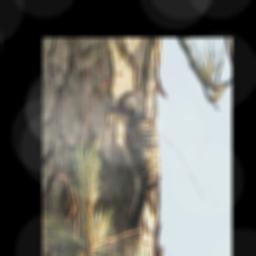Woodpecker: (106, 90, 161, 235)
